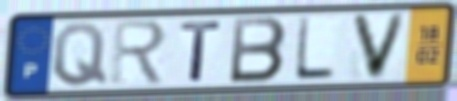B: (227, 15, 290, 86)
L: (291, 15, 339, 82)
Q: (51, 20, 110, 89)
R: (108, 18, 170, 87)
T: (178, 19, 225, 84)
V: (348, 11, 410, 82)
